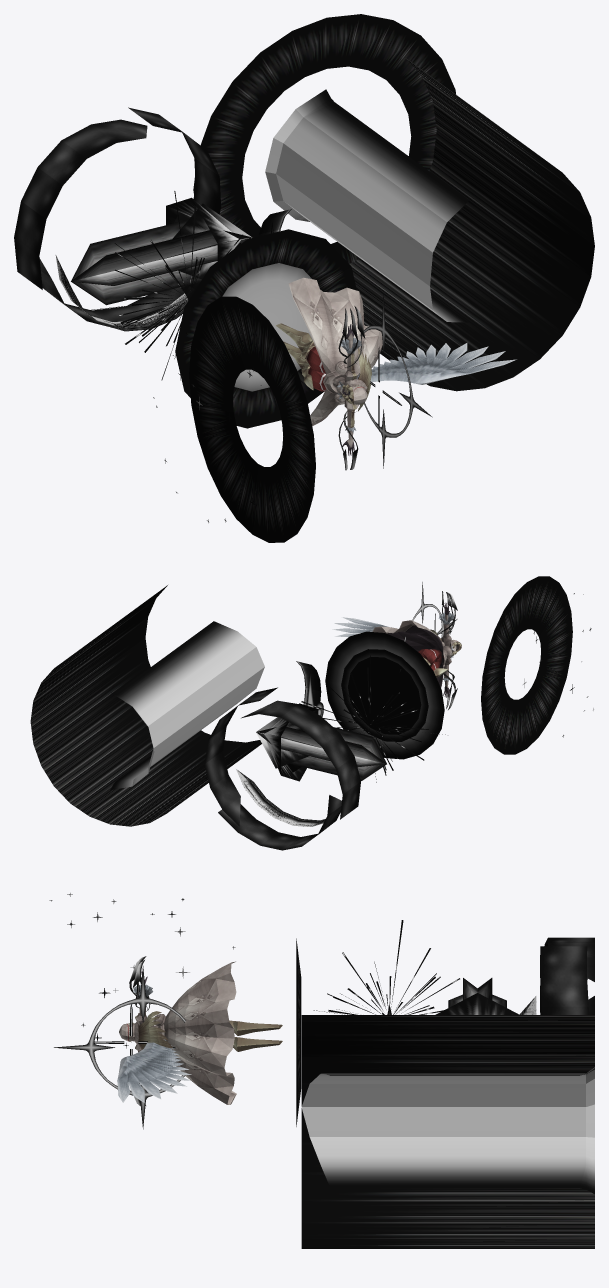
3 renders of one model, top to bottom at view 1: azimuth 30°, elevation 25°; view 2: azimuth 150°, elevation 25°; view 3: azimuth 270°, elevation 25°, orthographic. The views are drawn at different scales.
Visible parts, largest first — view 1: B_0156_1, B_0156_0; view 2: B_0156_1, B_0156_0; view 3: B_0156_1, B_0156_0.
Boxes of the visible parts, <box> form: B_0156_1: <box>14,14,594,542</box>; B_0156_0: <box>276,277,516,455</box>; B_0156_1: <box>30,576,593,850</box>; B_0156_0: <box>332,602,461,734</box>; B_0156_1: <box>49,893,594,1248</box>; B_0156_0: <box>117,961,282,1104</box>.
Size of the model in its own units: 17.84 by 8.73 by 17.82.
